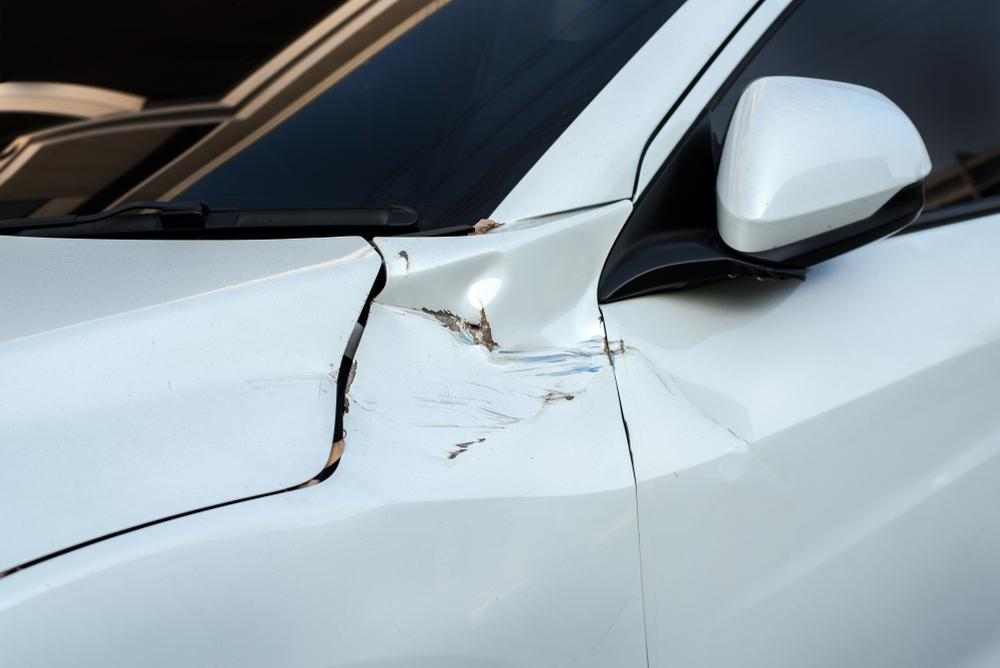dent: (352, 255, 609, 453), (639, 355, 751, 479)
